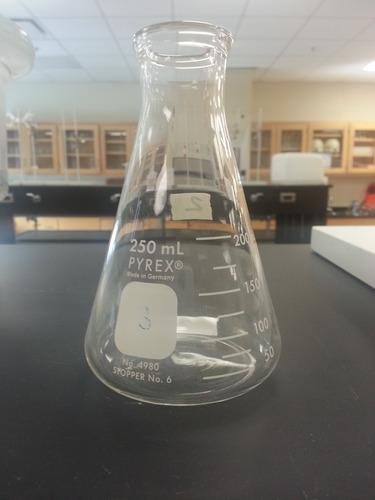Titrarion: (82, 26, 290, 413)
